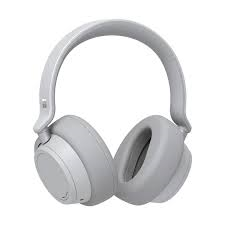headphone: (24, 14, 196, 210)
